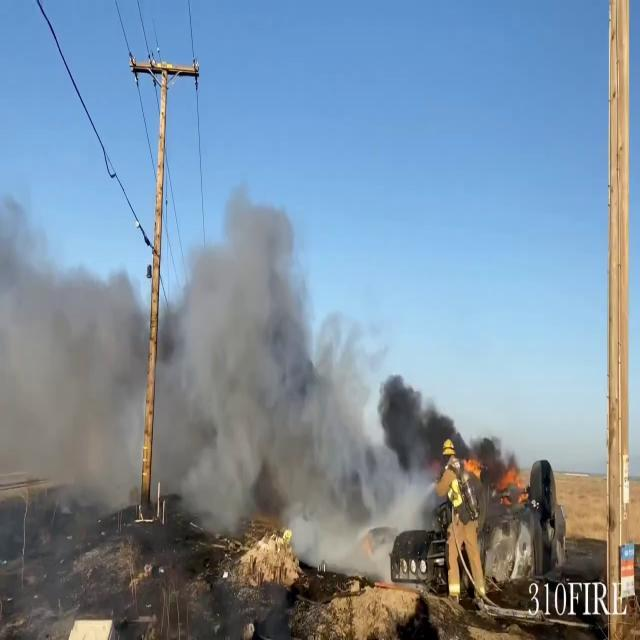Fire: (496, 463, 530, 503)
Smoke: (154, 167, 463, 564), (0, 182, 144, 512)
